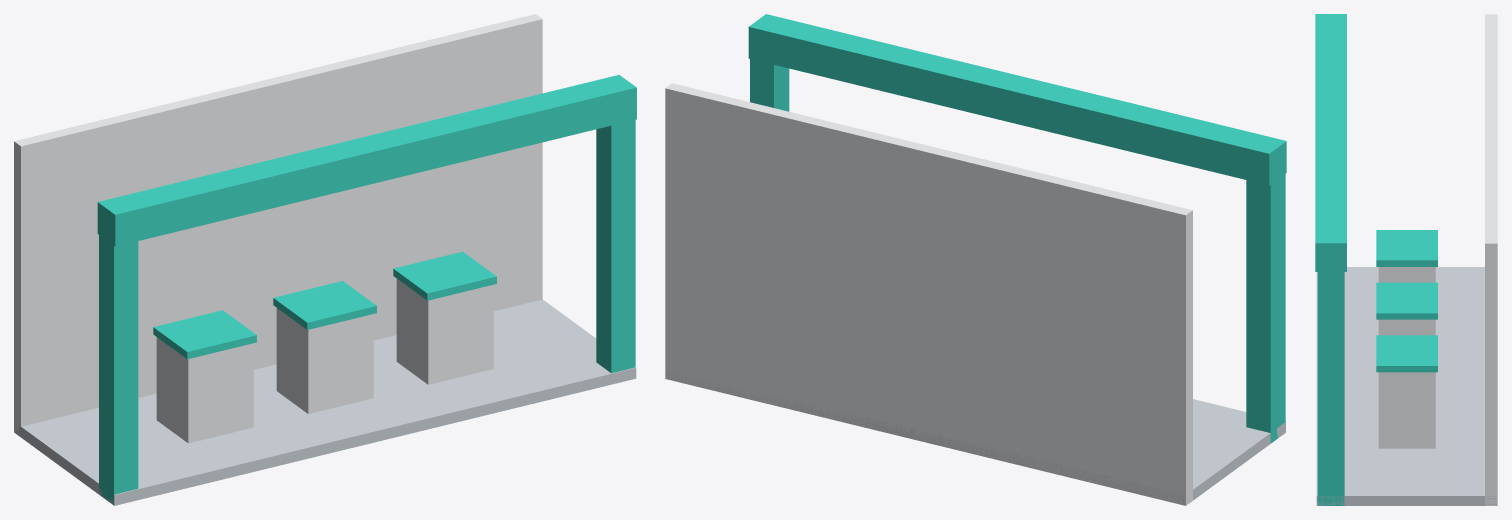
3 views of the same model, side by side, from view 1: azimuth 30°, elevation 25°; view 2: azimuth 150°, elevation 25°; view 3: azimuth 270°, elevation 25° (orthographic). The views are drawn at different scales.
Visible parts, largest first — view 1: Exhibition Booth Concept; view 2: Exhibition Booth Concept; view 3: Exhibition Booth Concept.
Part boxes in pixels (x1,y1,x2,y2): Exhibition Booth Concept: (14,14,636,505); Exhibition Booth Concept: (665,14,1286,505); Exhibition Booth Concept: (1315,14,1497,505).
Size of the model in its own units: 6 by 3.2 by 2.01.
